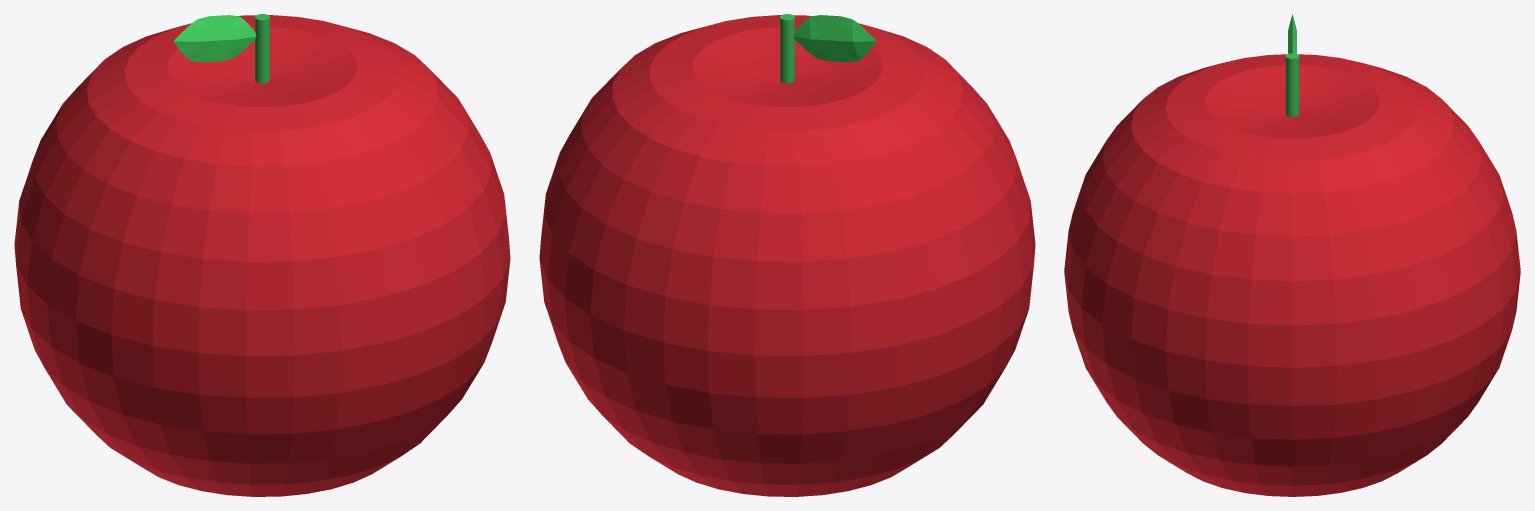
The model's file is ringo.obj.
3 renders of one model, left to right at view 1: azimuth 30°, elevation 25°; view 2: azimuth 150°, elevation 25°; view 3: azimuth 270°, elevation 25°, orthographic. The views are drawn at different scales.
Visible parts, largest first — view 1: 球, 葉っぱ本体, 円柱; view 2: 球, 葉っぱ本体, 円柱; view 3: 球, 円柱.
Part boxes in pixels (x1,y1,x2,y2): 球: [14, 15, 510, 496]; 葉っぱ本体: [173, 15, 256, 62]; 円柱: [255, 14, 269, 83]; 球: [539, 15, 1035, 496]; 葉っぱ本体: [793, 15, 876, 62]; 円柱: [780, 14, 794, 83]; 球: [1064, 54, 1520, 496]; 円柱: [1285, 53, 1299, 116].
Size of the model in its own units: 2 by 1.99 by 2.
Materials: 3 (3 with a texture image).
